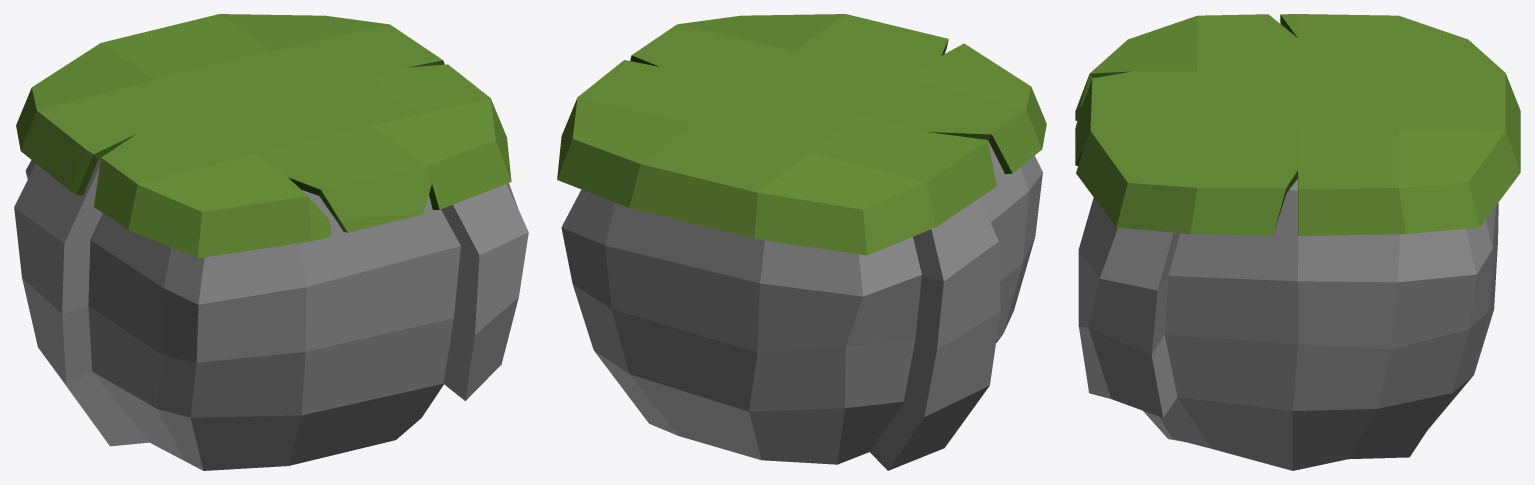
File: rock_top2.glb
3 renders of one model, left to right at view 1: azimuth 30°, elevation 25°; view 2: azimuth 150°, elevation 25°; view 3: azimuth 270°, elevation 25°, orthographic.
Visible parts, largest first — view 1: GrassTop2; view 2: GrassTop2; view 3: GrassTop2.
Boxes of the visible parts, bbox=[...] form: GrassTop2: bbox=[14, 14, 528, 470]; GrassTop2: bbox=[557, 14, 1046, 470]; GrassTop2: bbox=[1075, 14, 1520, 470].
Bounding box in the file's own units: 2.25 × 1.76 × 2.21.
Materials: 1 (1 with a texture image).
